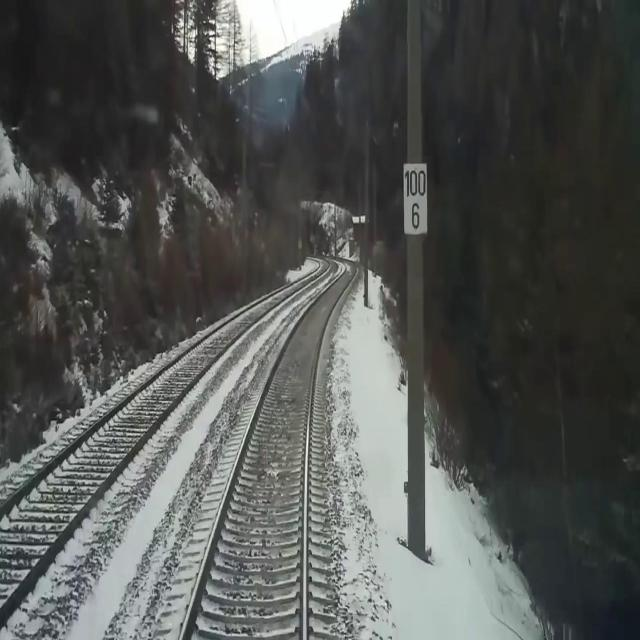rail-track: (182, 258, 355, 639)
